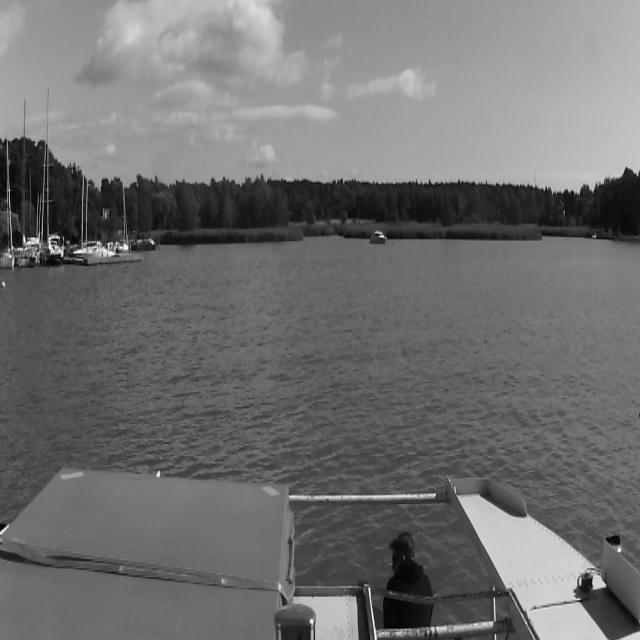ship: (38, 90, 64, 263), (18, 96, 34, 263), (3, 133, 15, 271), (116, 182, 130, 252), (74, 242, 115, 256), (371, 230, 387, 244)
